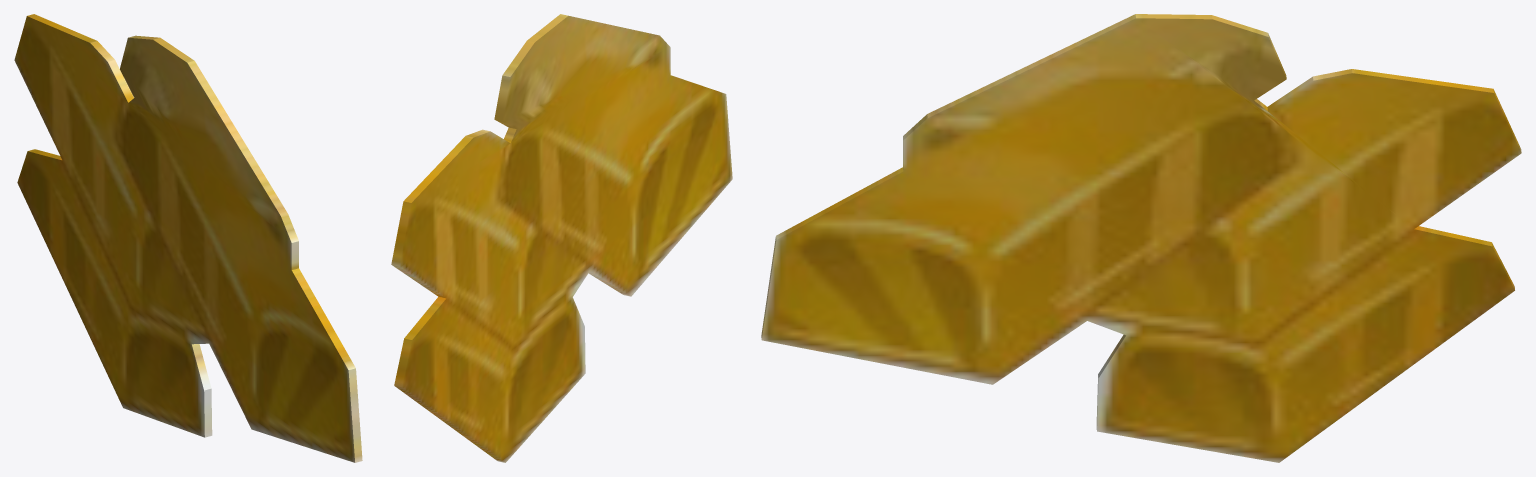
Rendered from GOLD.fbx.
The picture shows the model from 3 angles, left to right: view 1: azimuth 30°, elevation 25°; view 2: azimuth 150°, elevation 25°; view 3: azimuth 270°, elevation 25°; orthographic projection. The views are drawn at different scales.
Visible parts, largest first — view 1: Plane.008; view 2: Plane.008; view 3: Plane.008.
Boxes of the visible parts, box(x1,y1,x2,y2) form: Plane.008: box(14, 14, 362, 462); Plane.008: box(391, 14, 732, 462); Plane.008: box(761, 14, 1521, 462).
Size of the model in its own units: 1.59 by 39.59 by 61.24.
Materials: 1 (1 with a texture image).
